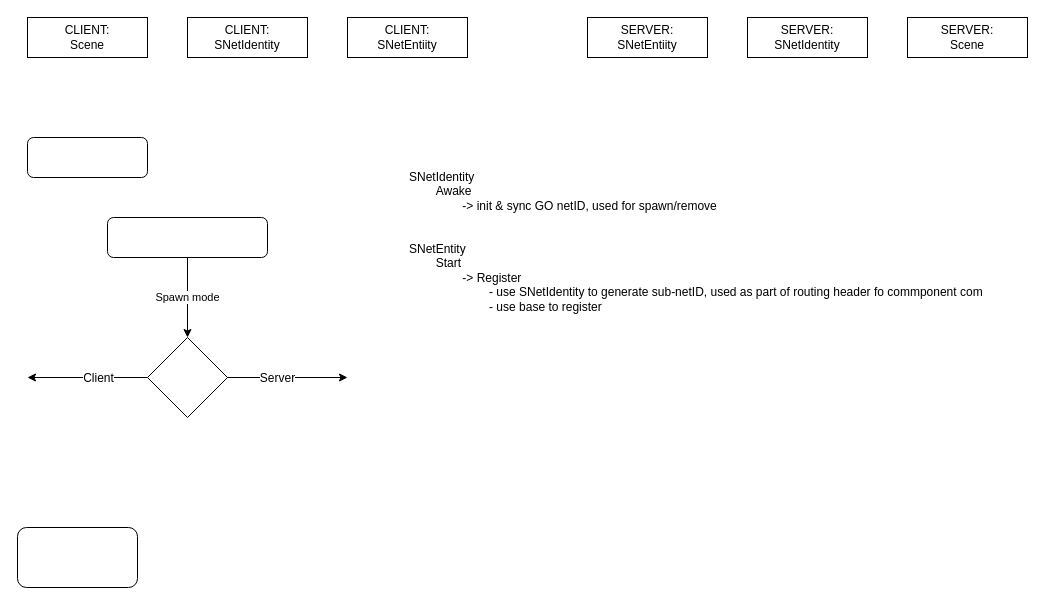
Image size: 1045x605. Some labels were removed from this diagram. The box of each missing label's shape, as (x1, y1, x2, y2) in pixels:
Call Awake SNetIdentity: (106, 216, 268, 258)
Load scene: (26, 136, 148, 178)
